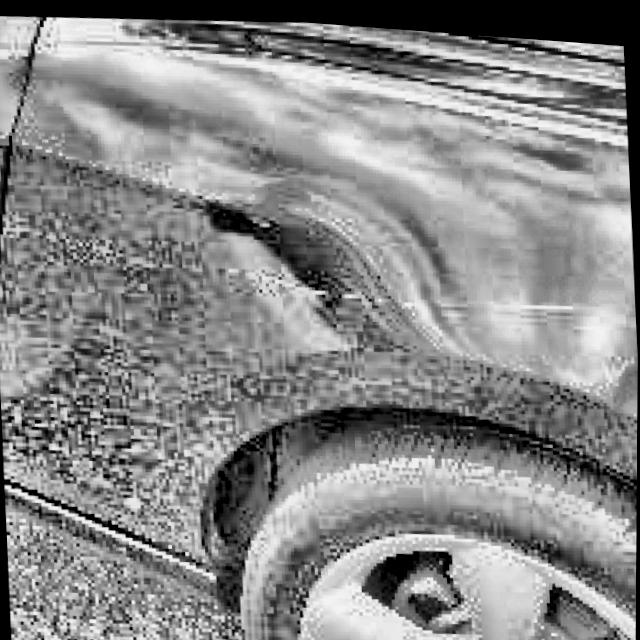door_scratch: (249, 243, 598, 349), (0, 207, 143, 282)
